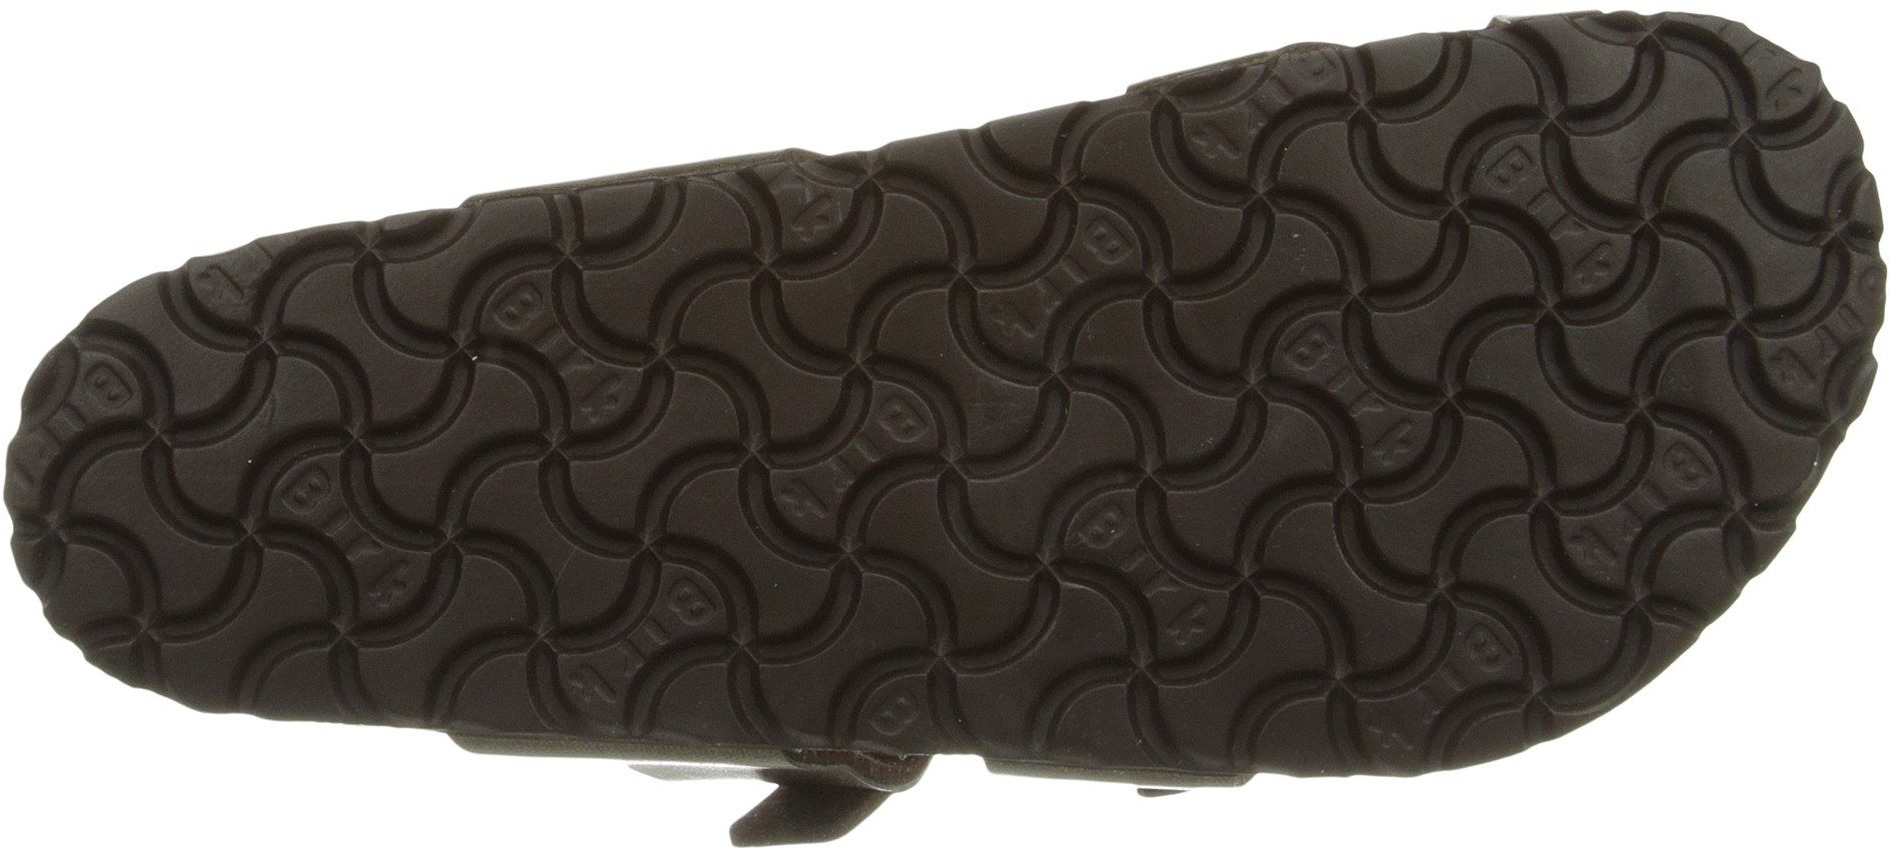bowtie: (648, 234, 1060, 619), (1188, 109, 1548, 455), (172, 317, 520, 672), (250, 322, 593, 637), (963, 200, 1301, 477), (1237, 476, 1456, 698), (864, 541, 1069, 719), (142, 541, 309, 697), (24, 392, 164, 526)
star: (250, 322, 593, 637), (963, 200, 1301, 477)
text: (648, 234, 1060, 619), (1188, 109, 1548, 455), (172, 317, 520, 672), (250, 322, 593, 637), (963, 200, 1301, 477)
